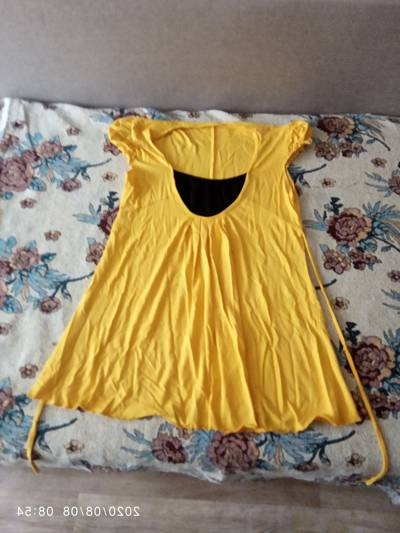Dress: (32, 83, 373, 453)
